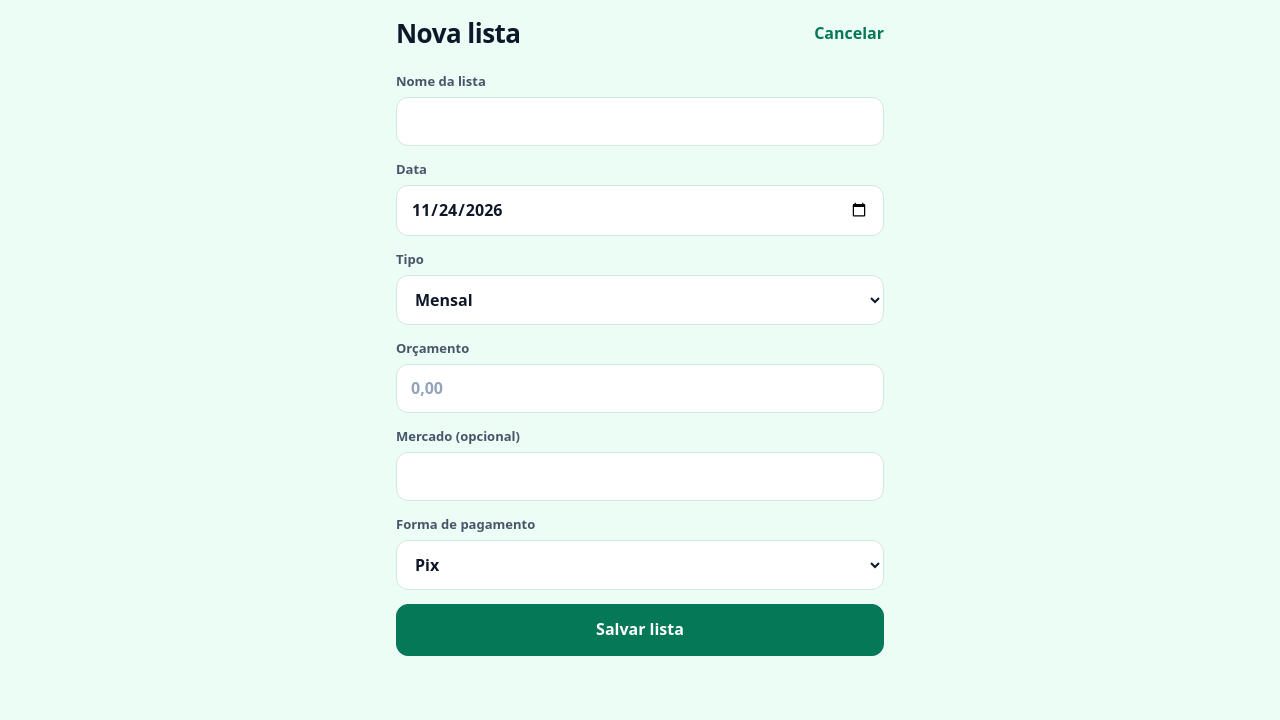
Test case: CA-R4: criar lista pela tela › salva nome e orçamento e abre o detalhe da lista criada
The width and height of the screenshot is (1280, 720).
Step 1. Type "Compras do mês" into the field labelled "Nome da lista" → (640, 121), box [396,97,884,146]
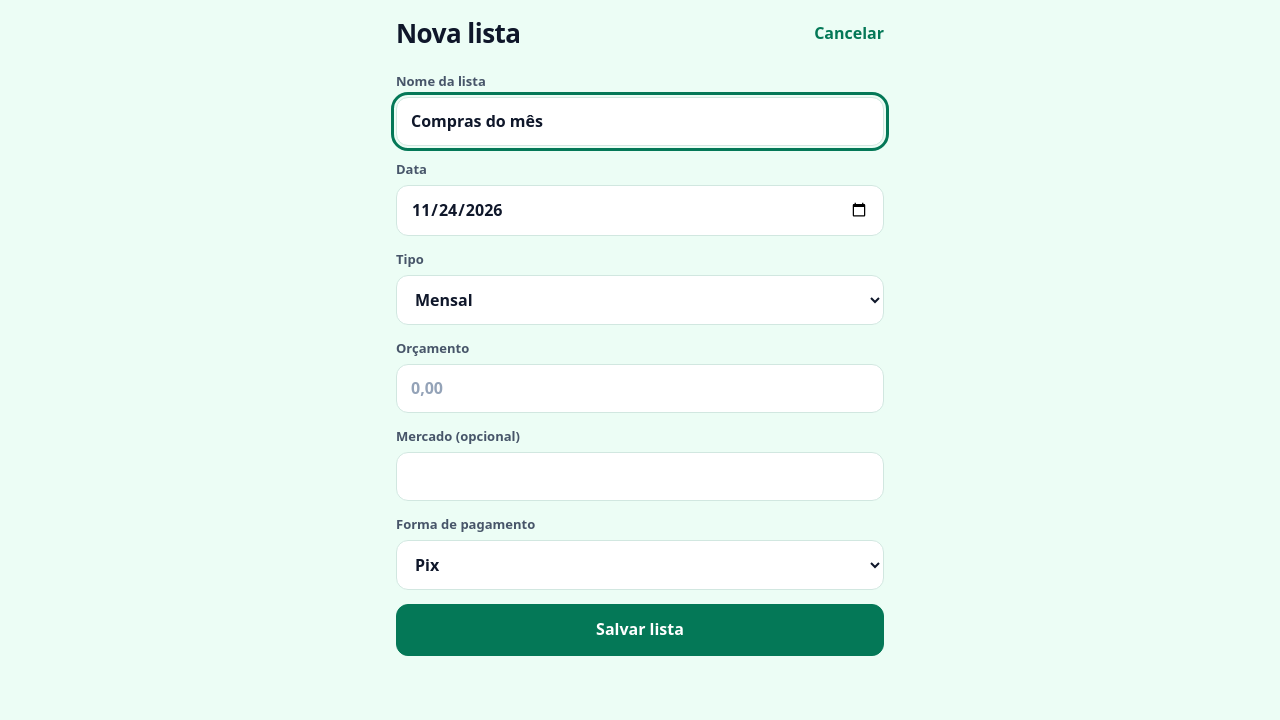
Step 2. Type "400,00" into the field labelled "Orçamento" → (640, 388), box [396,364,884,413]
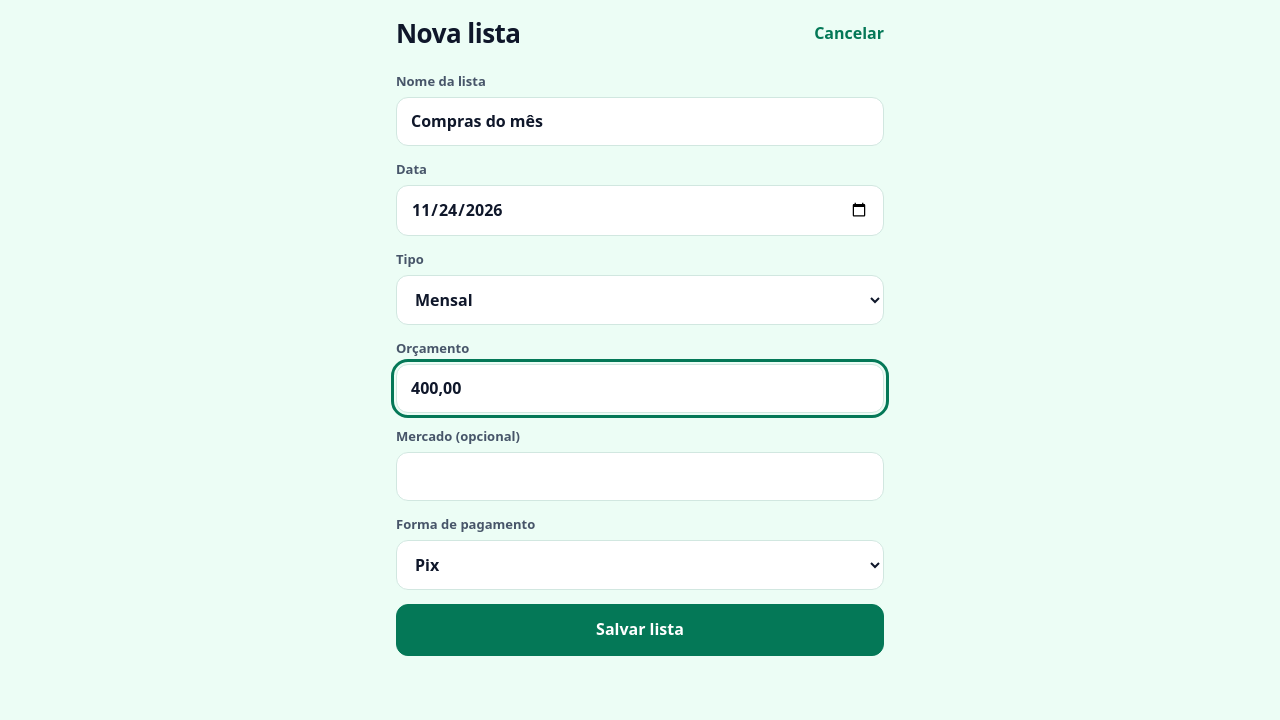
Step 3. Click the button "Salvar lista" → (640, 630), box [396,604,884,656]
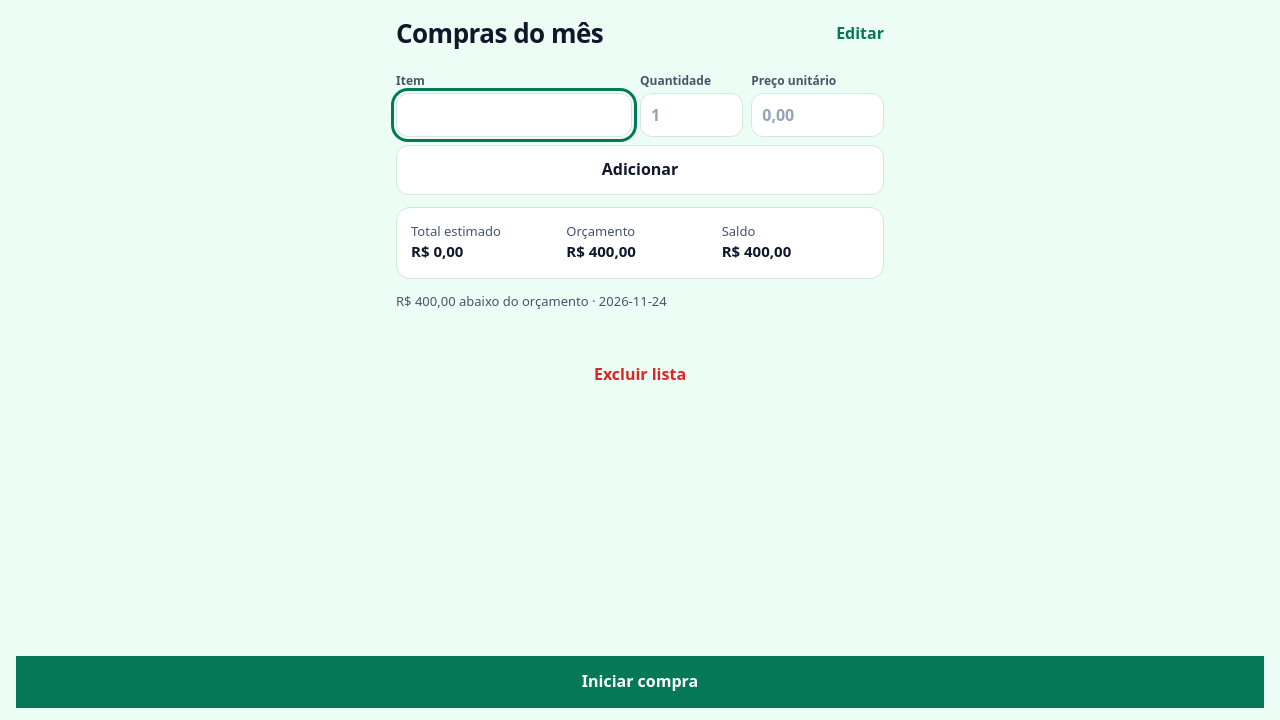
Expected: the heading "Compras do mês" is shown, [396,19,603,49]
Expected: the text with test id "orcamento" reads "R$ 400,00", [566,241,636,261]
